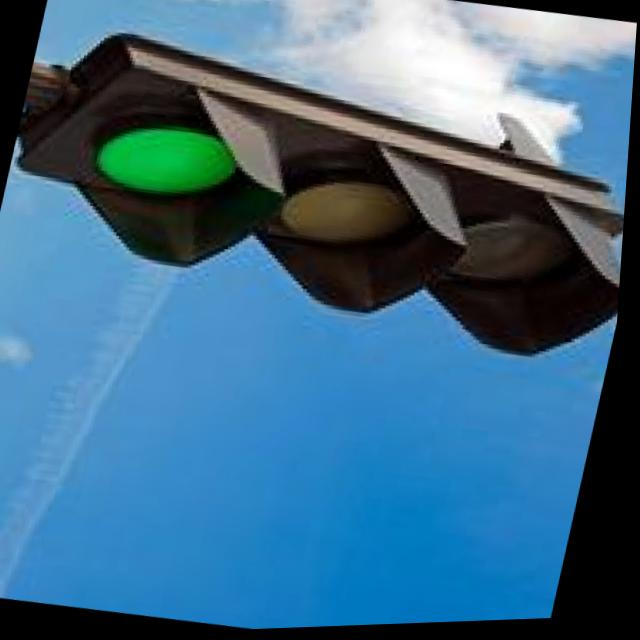green_light: (37, 59, 301, 283)
